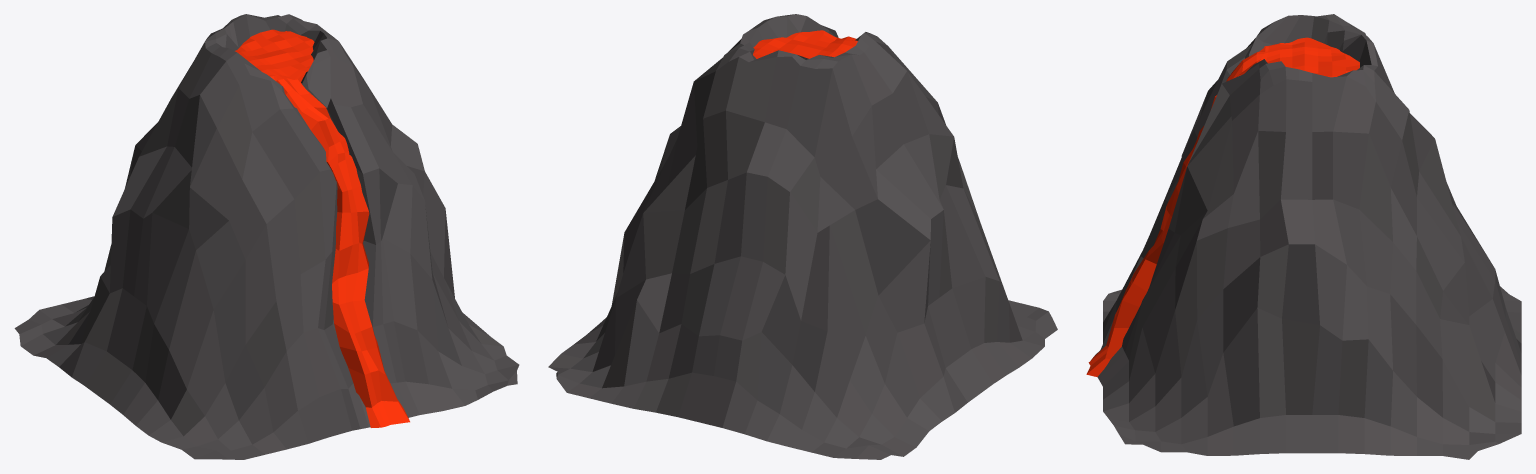
The model's file is Volcano_Ver3.fbx.
3 renders of one model, left to right at view 1: azimuth 30°, elevation 25°; view 2: azimuth 150°, elevation 25°; view 3: azimuth 270°, elevation 25°, orthographic. The views are drawn at different scales.
Parts seen in each view (by area): view 1: Volcano, Magma; view 2: Volcano, Magma; view 3: Volcano, Magma.
Boxes of the visible parts, x1,y1,x2,y2 form: Volcano: (14, 14, 519, 459); Magma: (235, 29, 409, 427); Volcano: (548, 14, 1057, 459); Magma: (753, 30, 857, 58); Volcano: (1095, 14, 1521, 459); Magma: (1086, 37, 1359, 376).
Size of the model in its own units: 1200 by 1057 by 1248.
